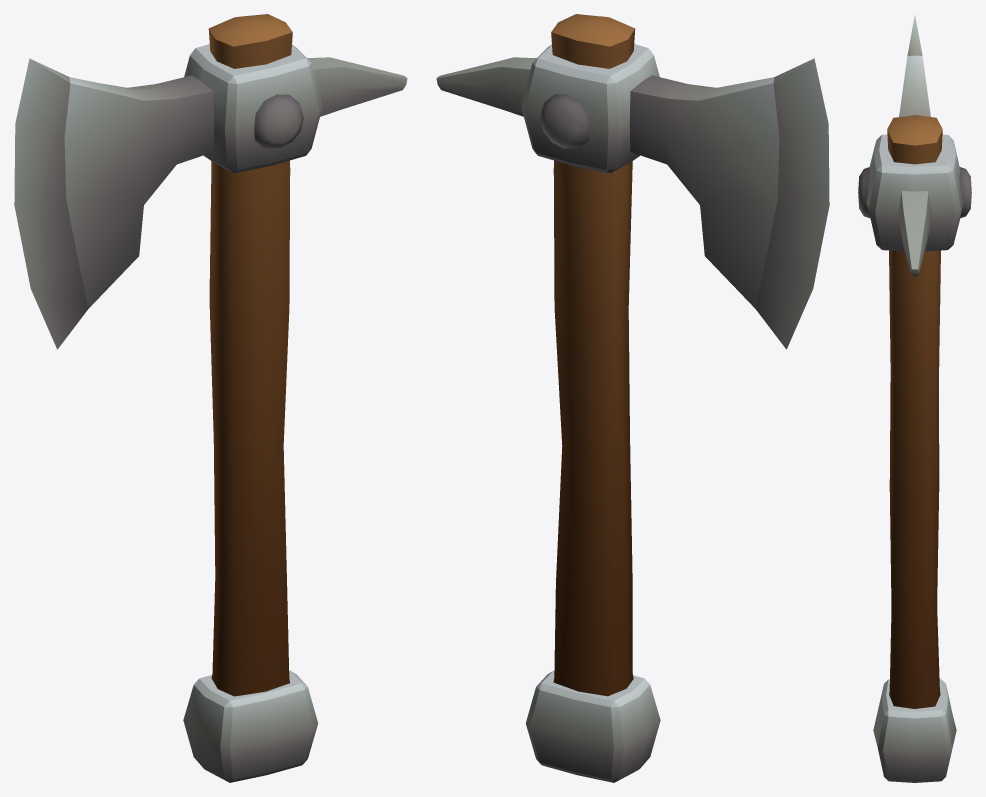
The model's file is Axe_04.obj.
The picture shows the model from 3 angles, left to right: view 1: azimuth 30°, elevation 25°; view 2: azimuth 150°, elevation 25°; view 3: azimuth 270°, elevation 25°; orthographic projection. The views are drawn at different scales.
Parts seen in each view (by area): view 1: Axe_04; view 2: Axe_04; view 3: Axe_04.
Boxes of the visible parts, left/top/right/bottom form: Axe_04: left=14, top=14, right=407, bottom=782; Axe_04: left=436, top=14, right=829, bottom=782; Axe_04: left=858, top=15, right=971, bottom=782.
Size of the model in its own units: 0.5968 by 1.1 by 0.1729.
